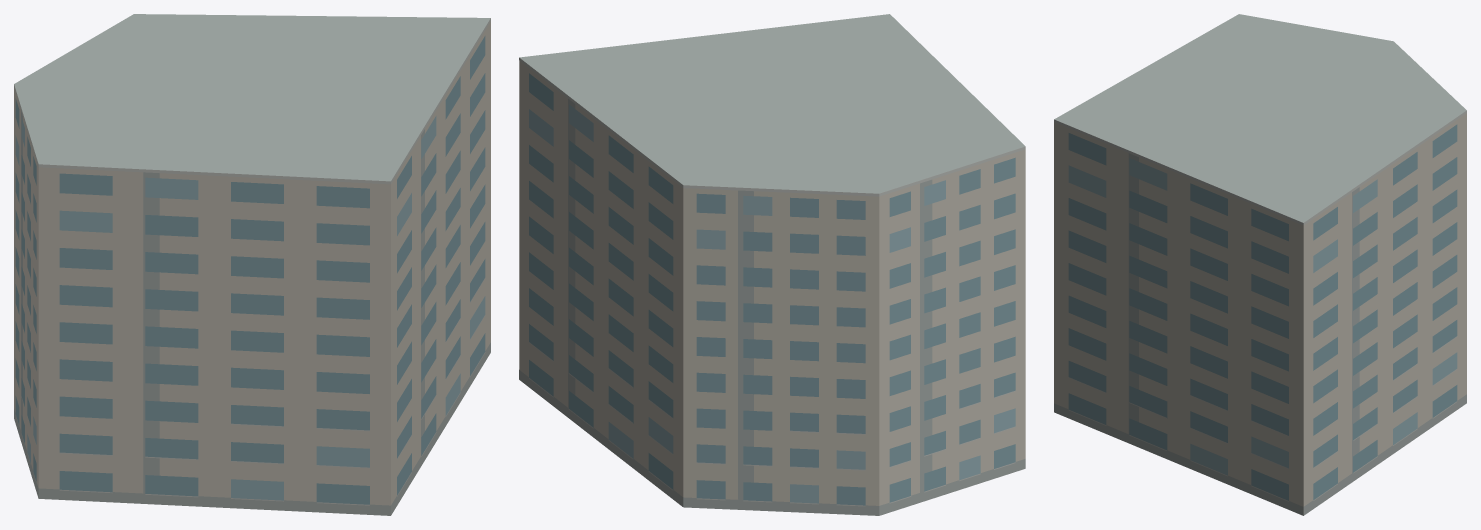
Rendered from residential-a0019674-c77b-4d07-bede-9db9b5d0a7cf.glb.
The picture shows the model from 3 angles, left to right: view 1: azimuth 30°, elevation 25°; view 2: azimuth 150°, elevation 25°; view 3: azimuth 270°, elevation 25°; orthographic projection. The views are drawn at different scales.
Visible parts, largest first — view 1: residential-a0019674-c77b-4d07-bede-9db9b5d0a7cf.tmp; view 2: residential-a0019674-c77b-4d07-bede-9db9b5d0a7cf.tmp; view 3: residential-a0019674-c77b-4d07-bede-9db9b5d0a7cf.tmp.
Part boxes in pixels (bbox=[...]): residential-a0019674-c77b-4d07-bede-9db9b5d0a7cf.tmp: bbox=[14, 14, 490, 515]; residential-a0019674-c77b-4d07-bede-9db9b5d0a7cf.tmp: bbox=[519, 14, 1025, 515]; residential-a0019674-c77b-4d07-bede-9db9b5d0a7cf.tmp: bbox=[1054, 14, 1466, 515].
Size of the model in its own units: 41.32 by 27 by 34.5.
